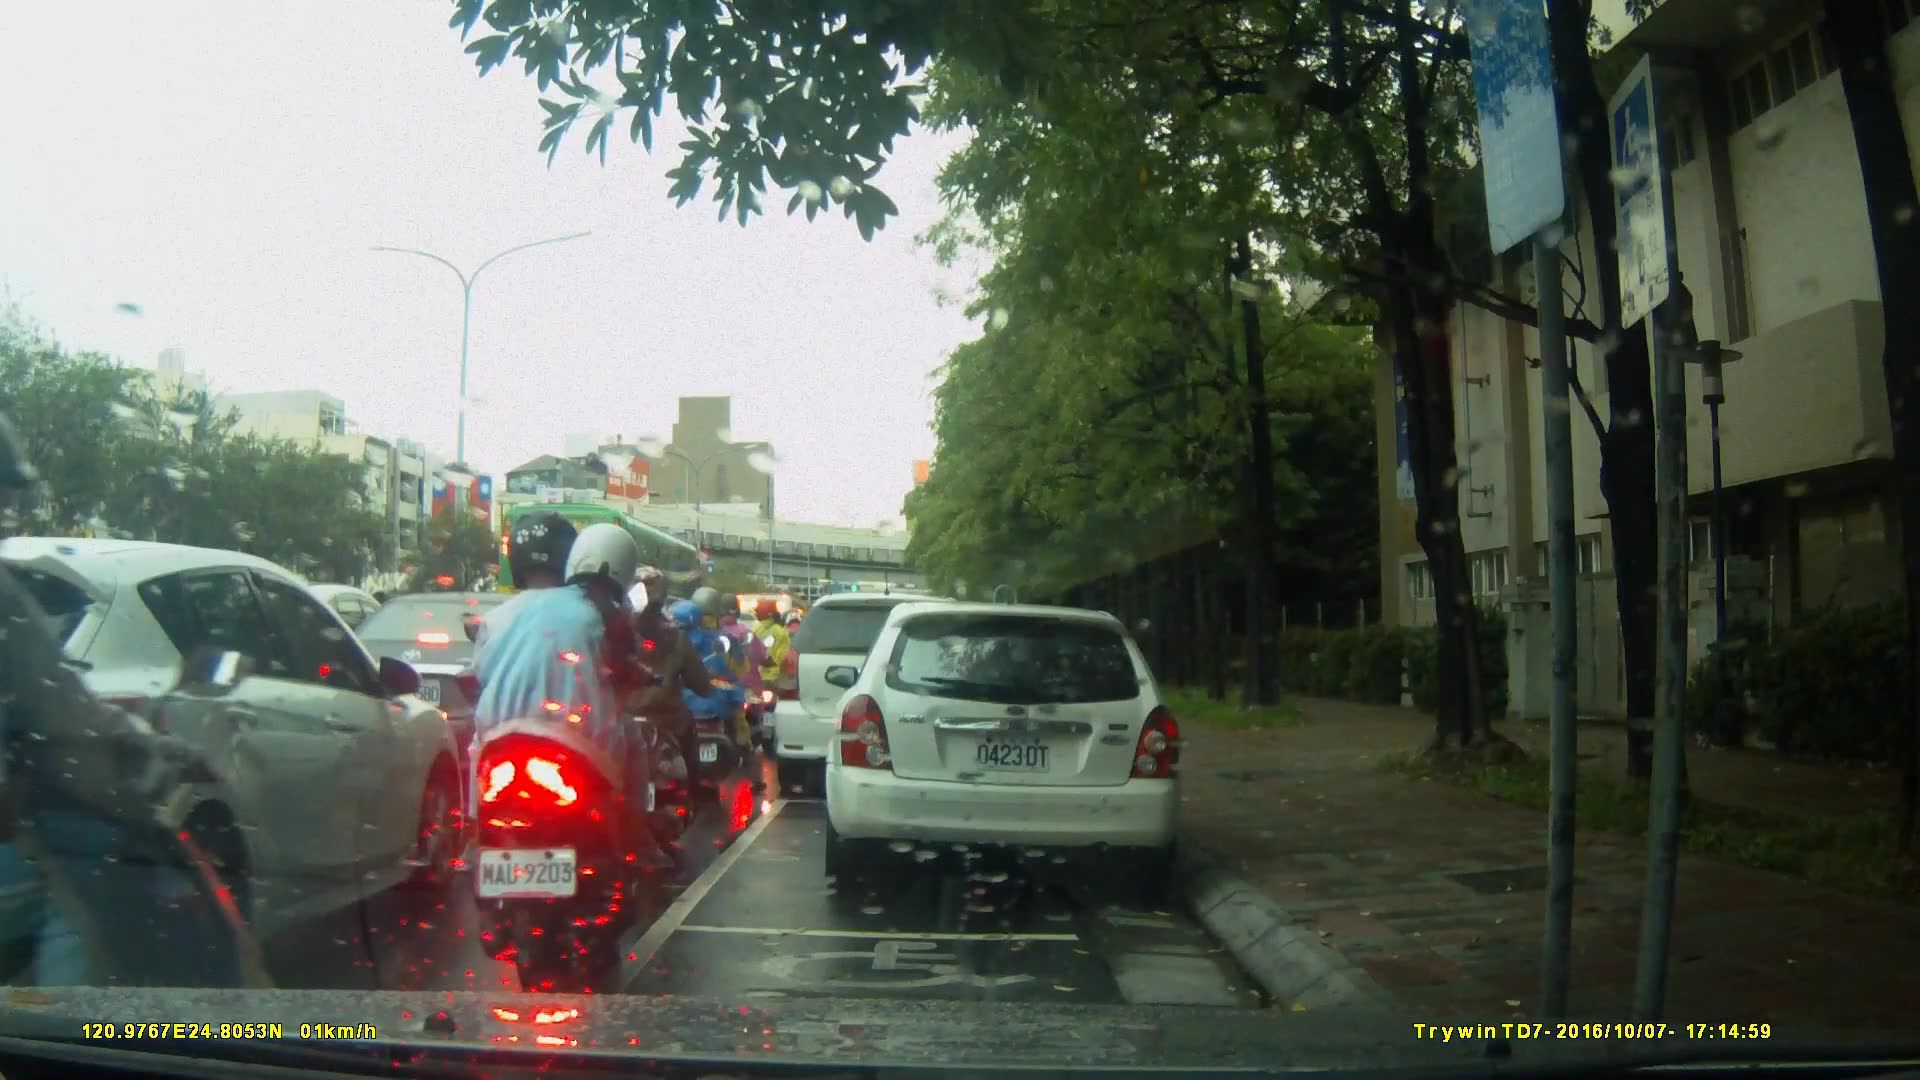rider: (1, 394, 296, 1080), (467, 509, 671, 984), (610, 569, 733, 848), (662, 588, 746, 794), (699, 598, 772, 764), (742, 598, 798, 744)
vehicle: (4, 536, 464, 988), (831, 592, 1196, 897), (312, 589, 629, 776), (771, 590, 999, 803), (497, 501, 710, 636)
